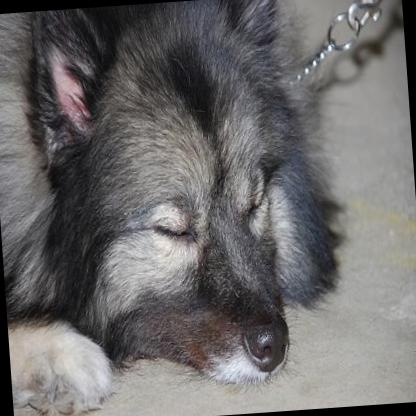keeshond: (0, 0, 325, 406)
